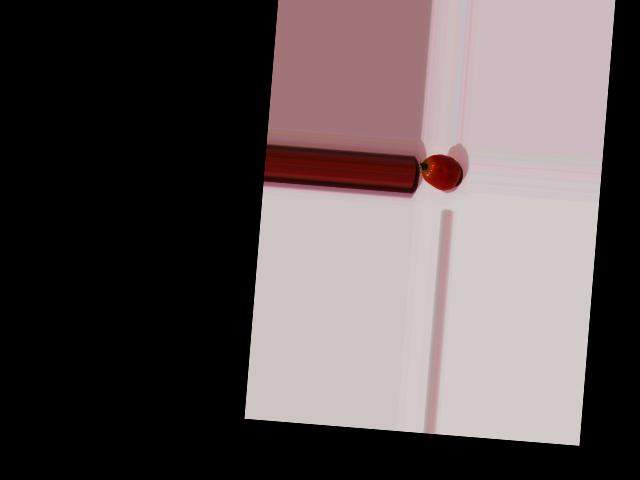tomato: (419, 153, 461, 191)
